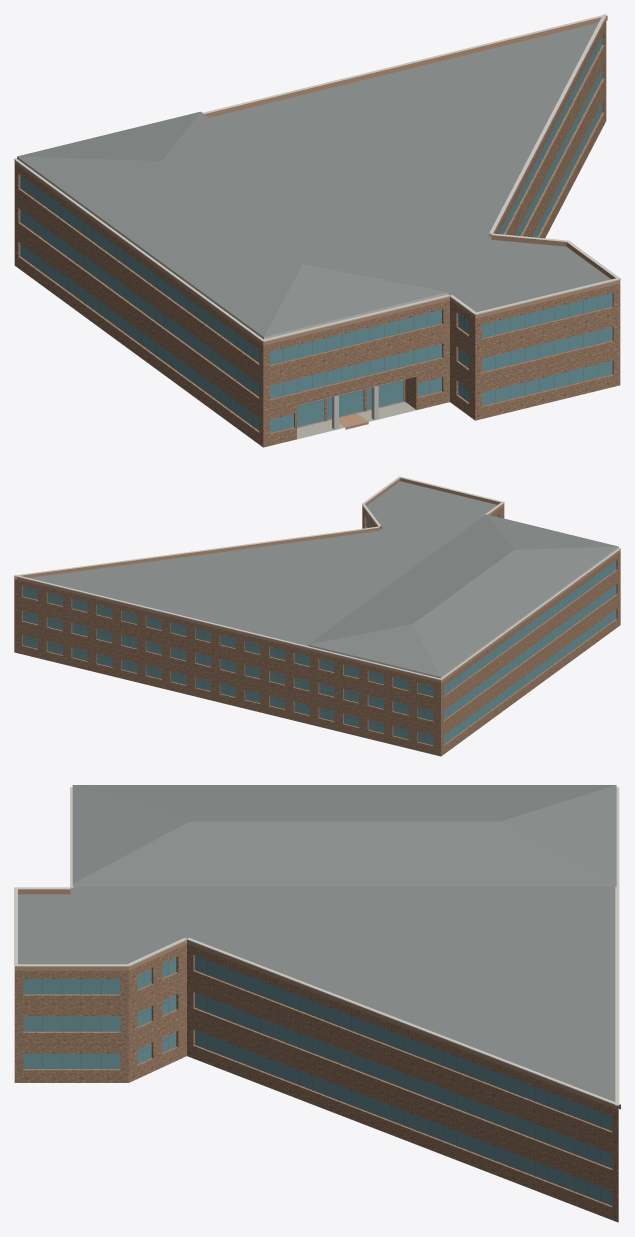
3 views of the same model, one above another, from view 1: azimuth 30°, elevation 25°; view 2: azimuth 150°, elevation 25°; view 3: azimuth 270°, elevation 25° (orthographic). The views are drawn at different scales.
Parts seen in each view (by area): view 1: campusTown__roof, campusTown__wall, campusTown__glass, campusTown__trim, campusTown__parapet, campusTown__frame, campusTown__base; view 2: campusTown__roof, campusTown__wall, campusTown__glass, campusTown__parapet, campusTown__trim, campusTown__frame; view 3: campusTown__roof, campusTown__wall, campusTown__glass, campusTown__trim, campusTown__parapet, campusTown__frame.
Boxes of the visible parts, left/top/right/bottom form: campusTown__roof: left=15, top=22, right=619, bottom=447; campusTown__wall: left=14, top=21, right=620, bottom=447; campusTown__glass: left=20, top=35, right=612, bottom=432; campusTown__trim: left=14, top=14, right=620, bottom=341; campusTown__parapet: left=14, top=16, right=620, bottom=345; campusTown__frame: left=28, top=40, right=599, bottom=430; campusTown__base: left=297, top=402, right=416, bottom=439; campusTown__roof: left=14, top=481, right=618, bottom=755; campusTown__wall: left=14, top=506, right=620, bottom=756; campusTown__glass: left=23, top=515, right=616, bottom=745; campusTown__parapet: left=14, top=478, right=620, bottom=682; campusTown__trim: left=14, top=476, right=620, bottom=680; campusTown__frame: left=22, top=519, right=610, bottom=743; campusTown__roof: left=18, top=785, right=617, bottom=1222; campusTown__wall: left=14, top=944, right=618, bottom=1222; campusTown__glass: left=23, top=955, right=612, bottom=1205; campusTown__trim: left=14, top=787, right=620, bottom=1106; campusTown__parapet: left=14, top=889, right=620, bottom=1110; campusTown__frame: left=42, top=960, right=600, bottom=1201.
Size of the model in its own units: 65.88 by 13.05 by 53.05.
Materials: 10 (1 with a texture image).
